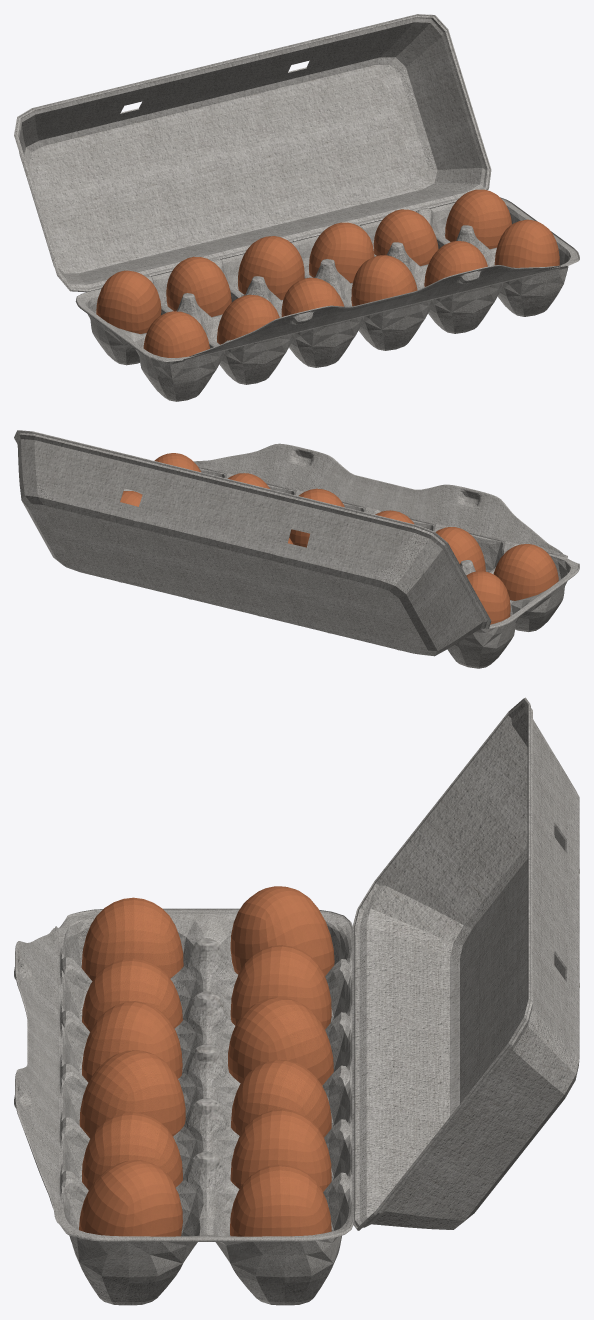
File: eggs.obj
The picture shows the model from 3 angles, top to bottom: view 1: azimuth 30°, elevation 25°; view 2: azimuth 150°, elevation 25°; view 3: azimuth 270°, elevation 25°; orthographic projection. The views are drawn at different scales.
Visible parts, largest first — view 1: carton_top_Plane.001, eggs_Cube.011, carton_bottom_Plane; view 2: carton_top_Plane.001, carton_bottom_Plane, eggs_Cube.011; view 3: carton_top_Plane.001, eggs_Cube.011, carton_bottom_Plane.
Part boxes in pixels (box(x1,y1,x2,y2)): carton_top_Plane.001: box(14, 14, 491, 292); eggs_Cube.011: box(96, 189, 559, 357); carton_bottom_Plane: box(75, 197, 579, 401); carton_top_Plane.001: box(14, 430, 491, 656); carton_bottom_Plane: box(119, 443, 579, 668); eggs_Cube.011: box(120, 453, 558, 624); carton_top_Plane.001: box(352, 697, 579, 1230); eggs_Cube.011: box(79, 886, 334, 1236); carton_bottom_Plane: box(14, 908, 353, 1305).
Size of the model in its own units: 3.94 by 1.72 by 2.83.
Materials: 2 (2 with a texture image).
